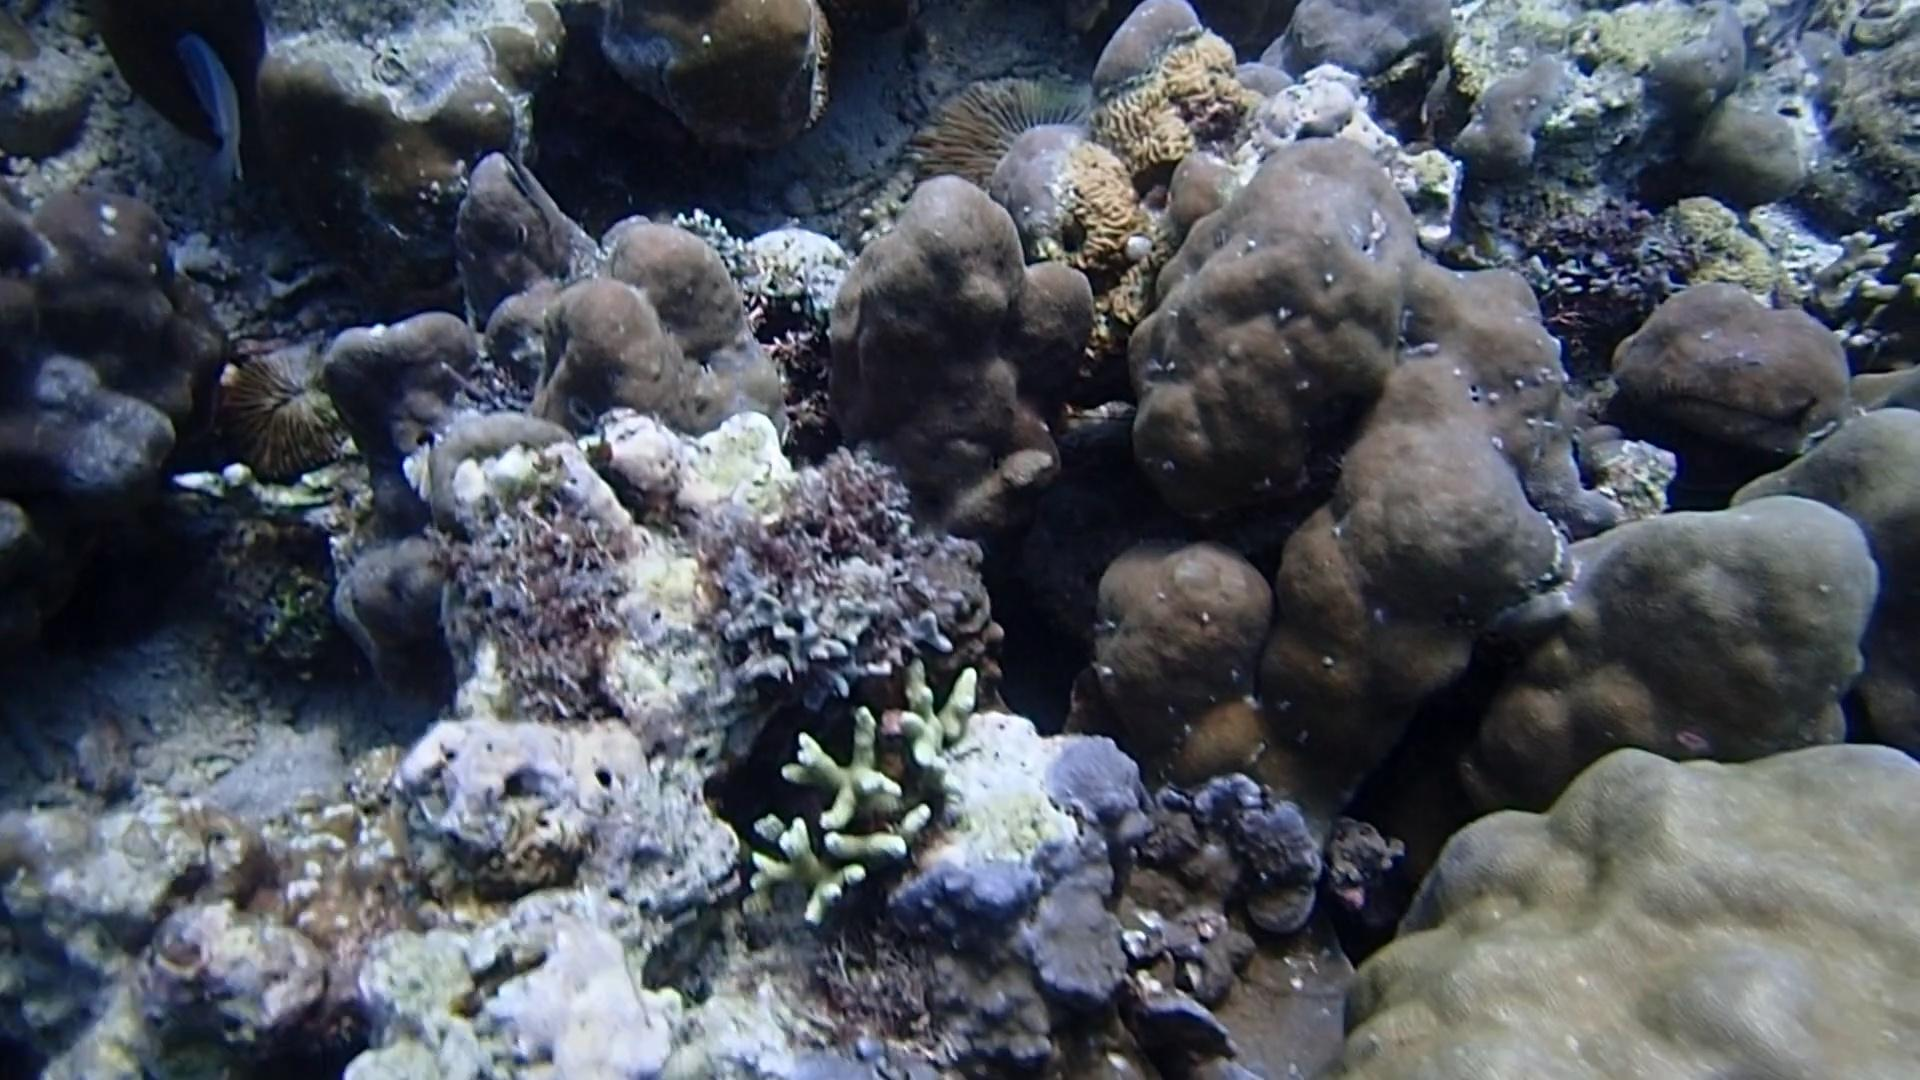Blue Fish Two: (161, 33, 265, 195)
